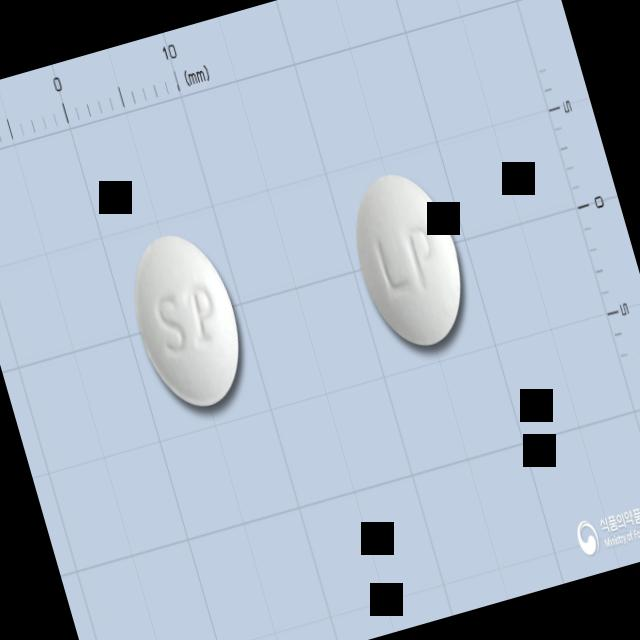Lefocin: (115, 222, 257, 418), (338, 162, 479, 356)
